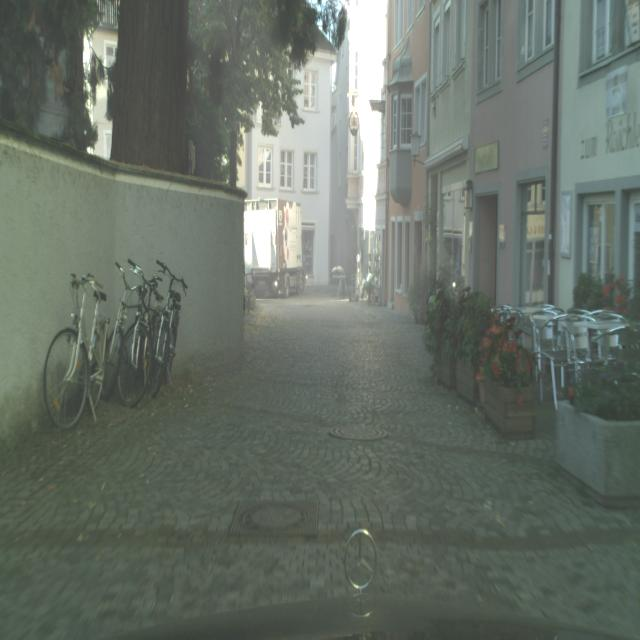bicycle: (243, 194, 309, 298)
car: (43, 271, 110, 433), (105, 260, 153, 413), (128, 256, 168, 405), (156, 256, 188, 400)
